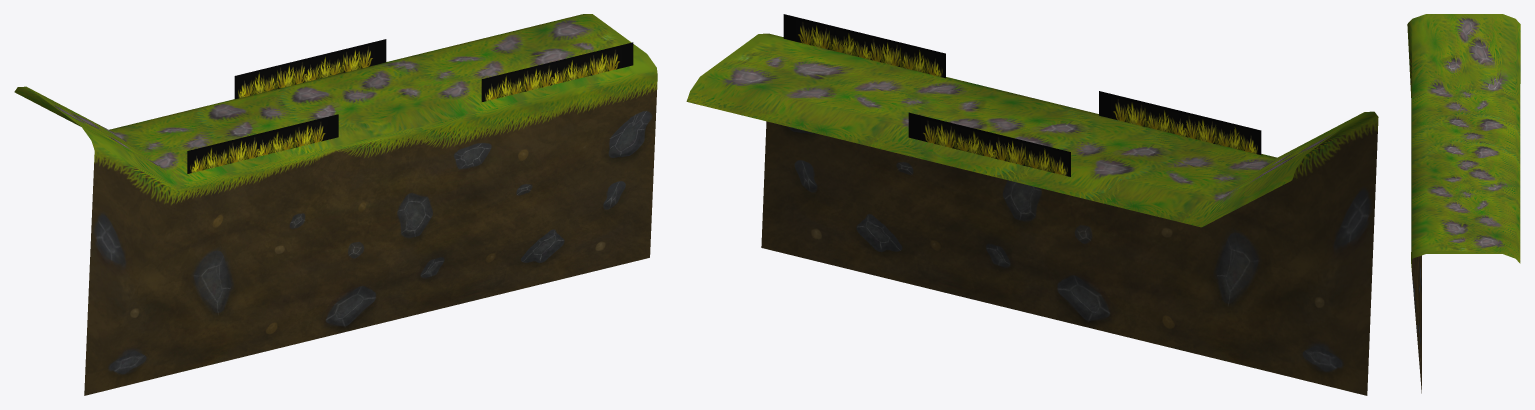
The model's file is platform_onder_VERHOGING_LIN_KS.fbx.
3 views of the same model, side by side, from view 1: azimuth 30°, elevation 25°; view 2: azimuth 150°, elevation 25°; view 3: azimuth 270°, elevation 25° (orthographic). The views are drawn at different scales.
Parts seen in each view (by area): view 1: Plane_2; view 2: Plane_2; view 3: Plane_2.
Part boxes in pixels (x1,y1,x2,y2): Plane_2: (14,14,657,395); Plane_2: (686,14,1378,395); Plane_2: (1407,14,1520,393).
Bounding box in the file's own units: 2091 × 943 × 515.
1 material, 1 textured.
